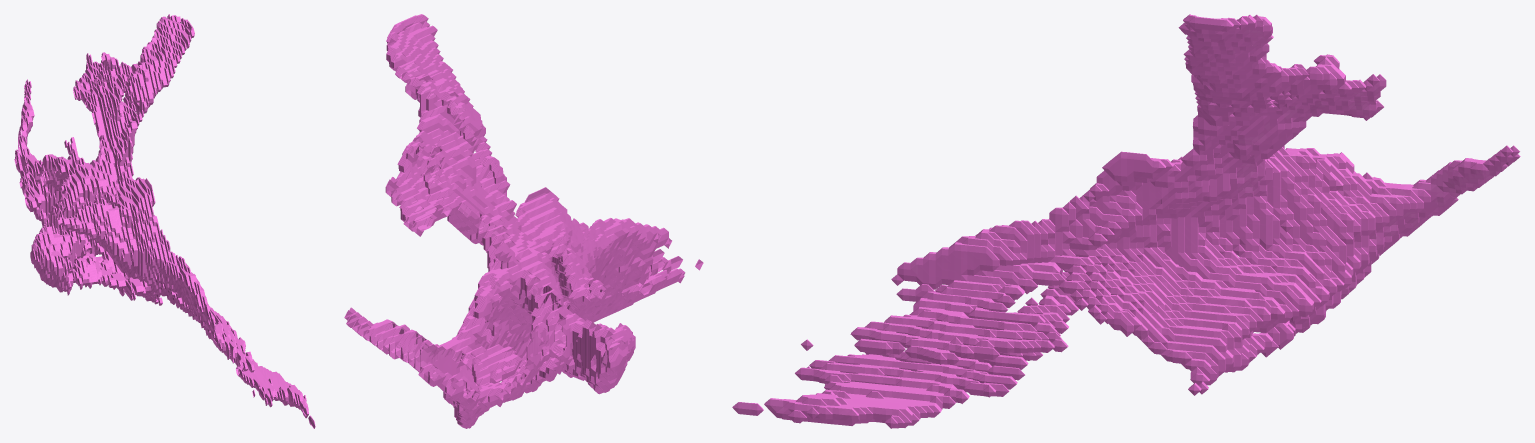
Rendered from SVV_BWM-VL04.gltf.
The picture shows the model from 3 angles, left to right: view 1: azimuth 30°, elevation 25°; view 2: azimuth 150°, elevation 25°; view 3: azimuth 270°, elevation 25°; orthographic projection. The views are drawn at different scales.
Visible parts, largest first — view 1: BWM-VL04; view 2: BWM-VL04; view 3: BWM-VL04.
Boxes of the visible parts, <box> form: BWM-VL04: <box>14,14,315,428</box>; BWM-VL04: <box>344,14,703,428</box>; BWM-VL04: <box>732,14,1520,428</box>.
Size of the model in its own units: 27626 by 46809 by 79650.
